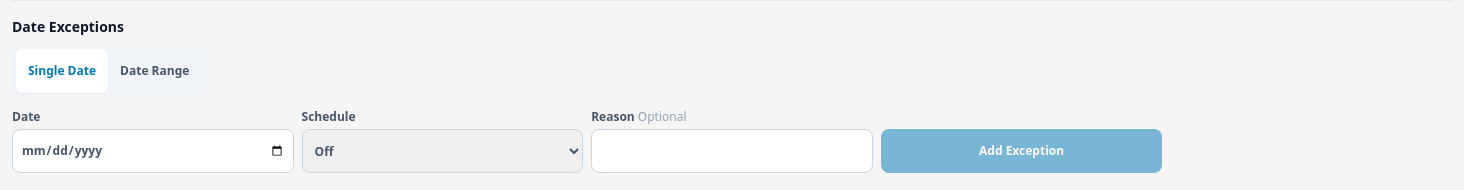
Scenario: DateExceptions › defaults to one date and makes range mode opt-in
Expected: the date field labelled "Date" is shown, [12,129,294,173]
Expected: the field labelled "End date" is not shown
Click the button "Date Range" at x=155, y=71, box [108,49,201,93]
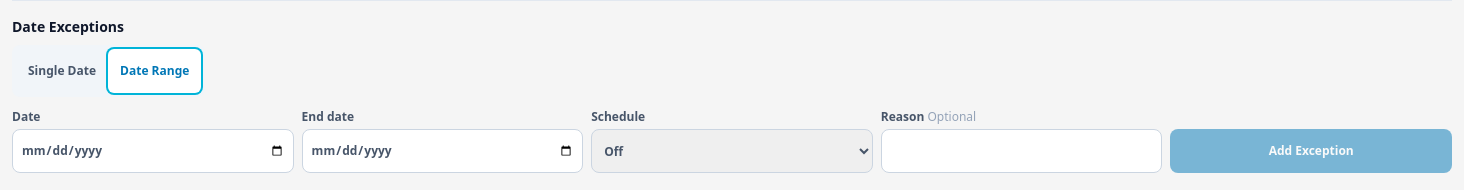
Result: the date field labelled "End date" is shown at [302,129,583,173]
